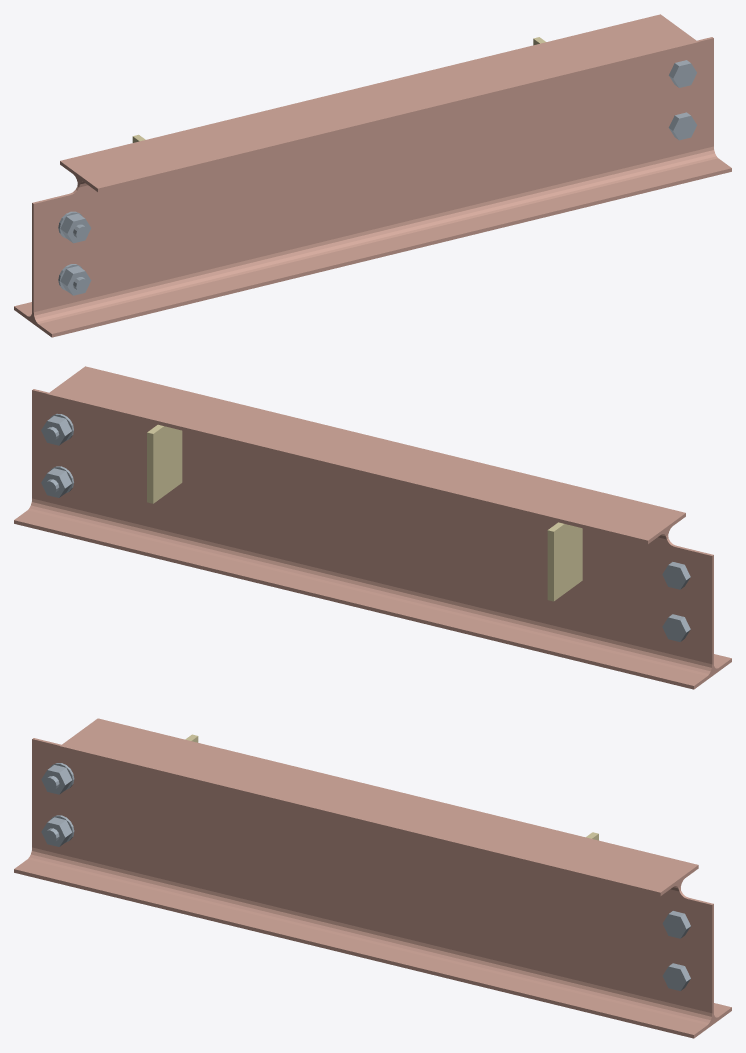
The picture shows the model from 3 angles, top to bottom: view 1: azimuth 30°, elevation 25°; view 2: azimuth 150°, elevation 25°; view 3: azimuth 330°, elevation 25°; orthographic projection.
Visible parts, largest first — view 1: product-c8e68ba6-1871-4fc7-93b9-83312e4c1b6d-body, product-a1a34e4e-bd03-43d4-b305-3f16f26544f5-body, product-e3e96cc5-c63e-412d-b3a0-c01108aecb1b-body, product-31864b80-17a1-46a7-be89-dc81ee64c8b5-body, product-ac58cfc7-8e26-480e-8fd4-5b41d5f6a459-body; view 2: product-c8e68ba6-1871-4fc7-93b9-83312e4c1b6d-body, product-08a31cf4-5d5b-4d62-8aac-d434784885cc-body, product-978f73c4-2881-41f6-9c68-64bc69ba93d4-body, product-31864b80-17a1-46a7-be89-dc81ee64c8b5-body, product-ac58cfc7-8e26-480e-8fd4-5b41d5f6a459-body, product-a1a34e4e-bd03-43d4-b305-3f16f26544f5-body, product-e3e96cc5-c63e-412d-b3a0-c01108aecb1b-body; view 3: product-c8e68ba6-1871-4fc7-93b9-83312e4c1b6d-body, product-e3e96cc5-c63e-412d-b3a0-c01108aecb1b-body, product-a1a34e4e-bd03-43d4-b305-3f16f26544f5-body, product-31864b80-17a1-46a7-be89-dc81ee64c8b5-body, product-ac58cfc7-8e26-480e-8fd4-5b41d5f6a459-body.
Boxes of the visible parts, x1,y1,x2,y2 form: product-c8e68ba6-1871-4fc7-93b9-83312e4c1b6d-body: (14, 14, 731, 337); product-a1a34e4e-bd03-43d4-b305-3f16f26544f5-body: (58, 211, 91, 243); product-e3e96cc5-c63e-412d-b3a0-c01108aecb1b-body: (58, 264, 91, 295); product-31864b80-17a1-46a7-be89-dc81ee64c8b5-body: (668, 112, 696, 140); product-ac58cfc7-8e26-480e-8fd4-5b41d5f6a459-body: (668, 60, 696, 87); product-c8e68ba6-1871-4fc7-93b9-83312e4c1b6d-body: (14, 366, 731, 689); product-08a31cf4-5d5b-4d62-8aac-d434784885cc-body: (547, 522, 582, 601); product-978f73c4-2881-41f6-9c68-64bc69ba93d4-body: (147, 424, 182, 503); product-31864b80-17a1-46a7-be89-dc81ee64c8b5-body: (41, 466, 73, 497); product-ac58cfc7-8e26-480e-8fd4-5b41d5f6a459-body: (41, 413, 73, 445); product-a1a34e4e-bd03-43d4-b305-3f16f26544f5-body: (662, 562, 690, 589); product-e3e96cc5-c63e-412d-b3a0-c01108aecb1b-body: (662, 614, 690, 641); product-c8e68ba6-1871-4fc7-93b9-83312e4c1b6d-body: (14, 718, 731, 1038); product-e3e96cc5-c63e-412d-b3a0-c01108aecb1b-body: (41, 815, 74, 846); product-a1a34e4e-bd03-43d4-b305-3f16f26544f5-body: (41, 763, 74, 794); product-31864b80-17a1-46a7-be89-dc81ee64c8b5-body: (662, 963, 690, 990); product-ac58cfc7-8e26-480e-8fd4-5b41d5f6a459-body: (662, 911, 690, 938).
Bounding box in the file's own units: 1.04 × 0.2004 × 0.1284.
